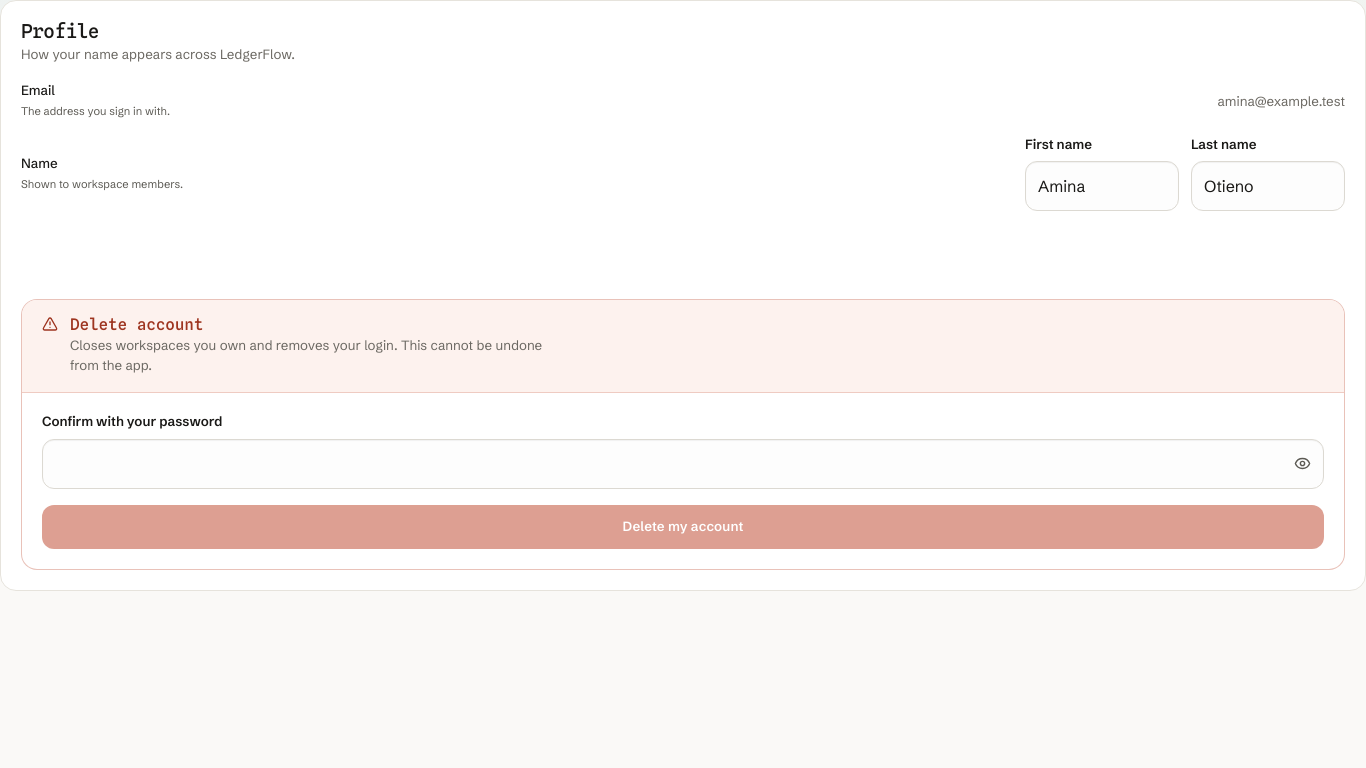
ProfilePanel autosave › is loud about a failure and offers a retry
Type "!" into the field labelled "First name". click: [1102, 186]
box: [1025,161,1179,211]
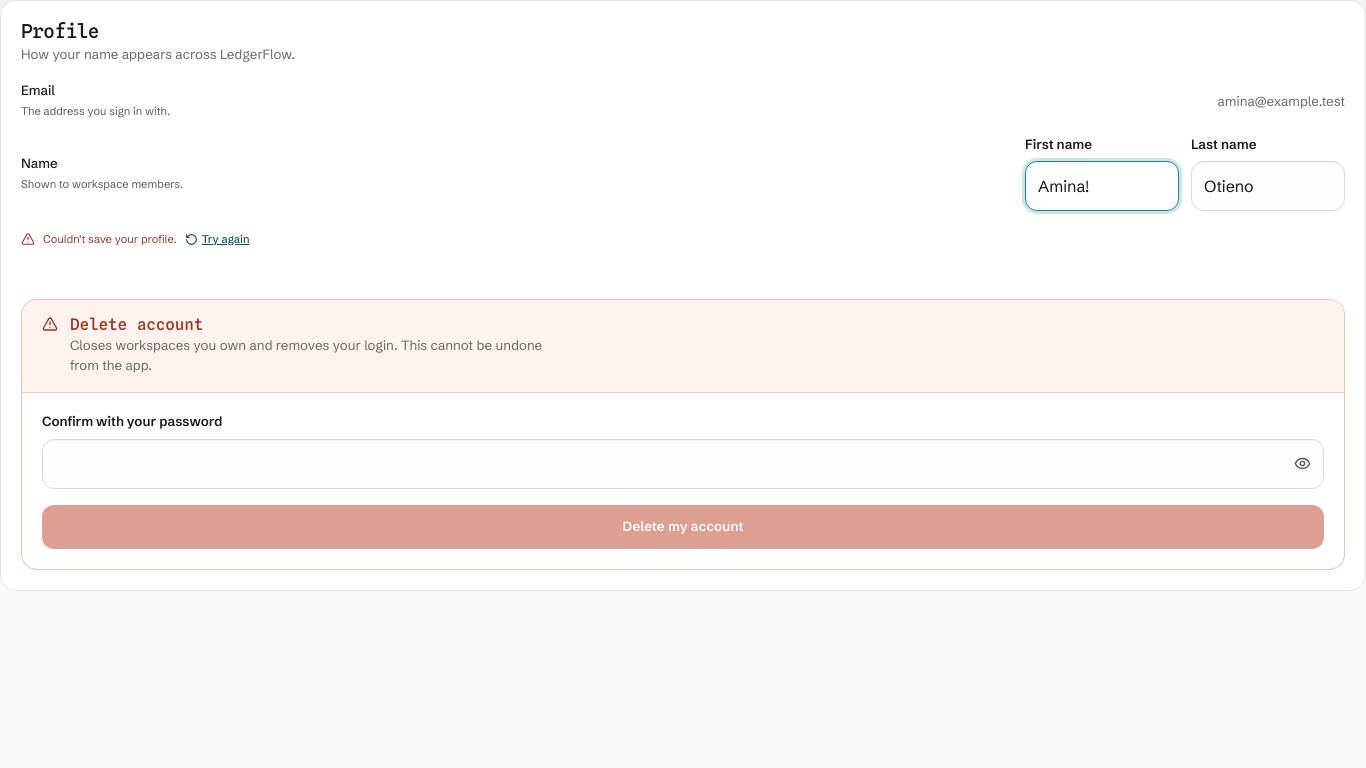
Expected: the message shows "Couldn't save", [43,232,177,246]
Click the button "Try again". click: [217, 239]
box: [185,231,250,247]
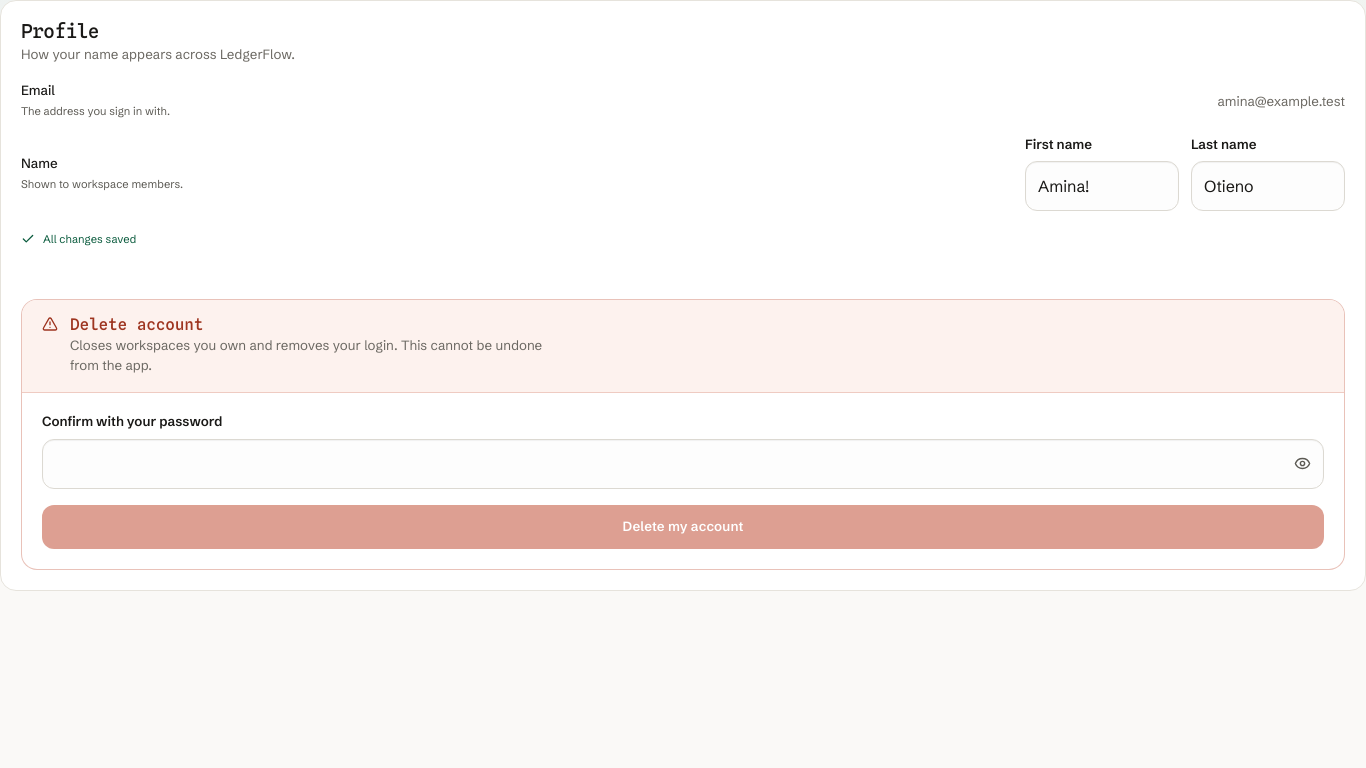
Expected: the text "All changes saved" is shown, [21,232,136,246]
